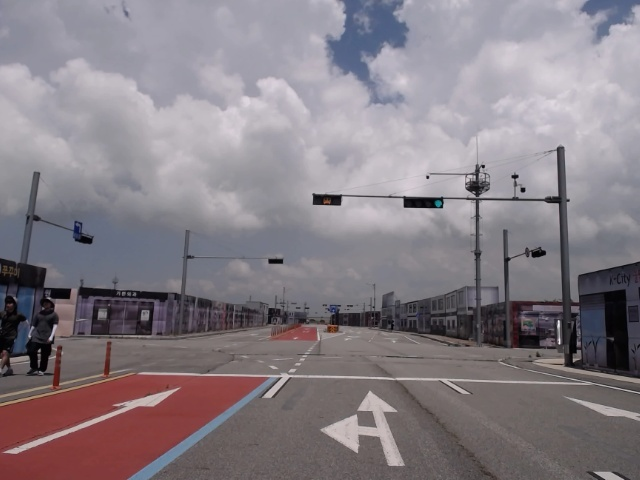straight_green_4: (403, 196, 444, 208)
